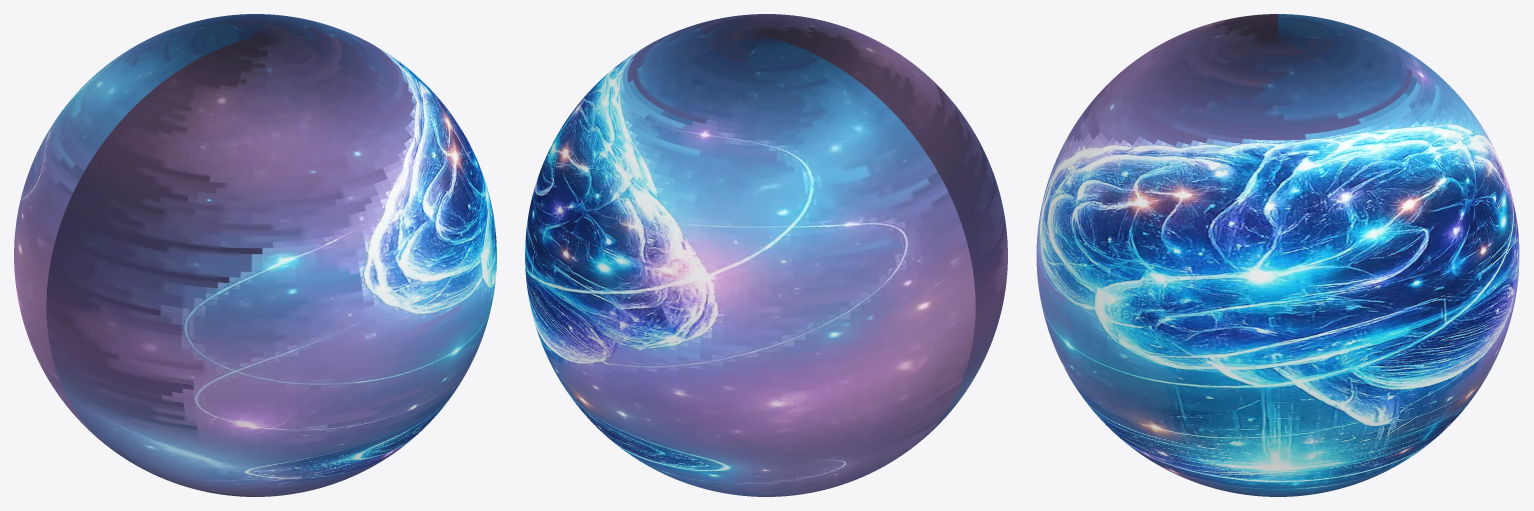
The model's file is brain.glb.
3 views of the same model, side by side, from view 1: azimuth 30°, elevation 25°; view 2: azimuth 150°, elevation 25°; view 3: azimuth 270°, elevation 25° (orthographic).
Parts seen in each view (by area): view 1: Spherical_Cosmic_Brain_Globe; view 2: Spherical_Cosmic_Brain_Globe; view 3: Spherical_Cosmic_Brain_Globe.
Boxes of the visible parts, bbox=[...] form: Spherical_Cosmic_Brain_Globe: bbox=[14, 14, 496, 496]; Spherical_Cosmic_Brain_Globe: bbox=[525, 14, 1007, 496]; Spherical_Cosmic_Brain_Globe: bbox=[1036, 14, 1519, 496].
Bounding box in the file's own units: 4.8 × 4.8 × 4.8.
1 material, 1 textured.
